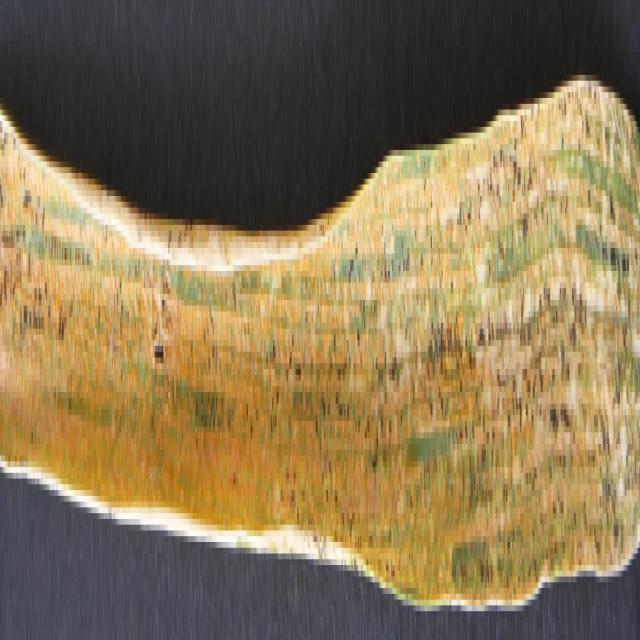leaf rust: (0, 126, 640, 582)
